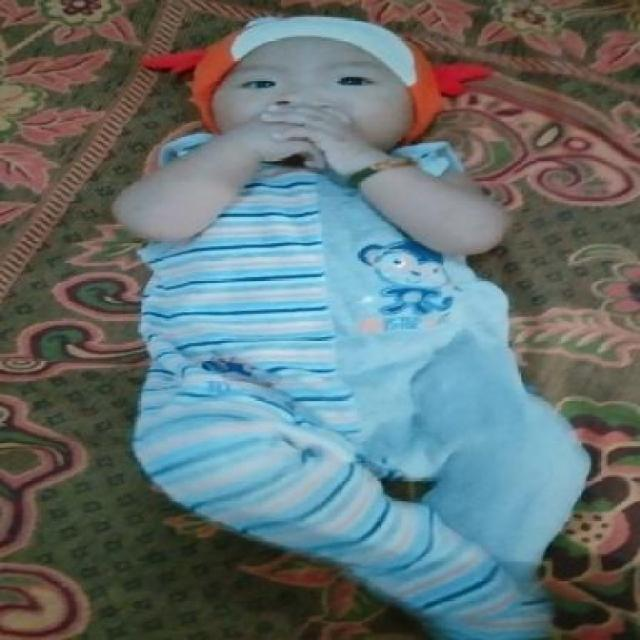baby: (108, 12, 590, 638)
